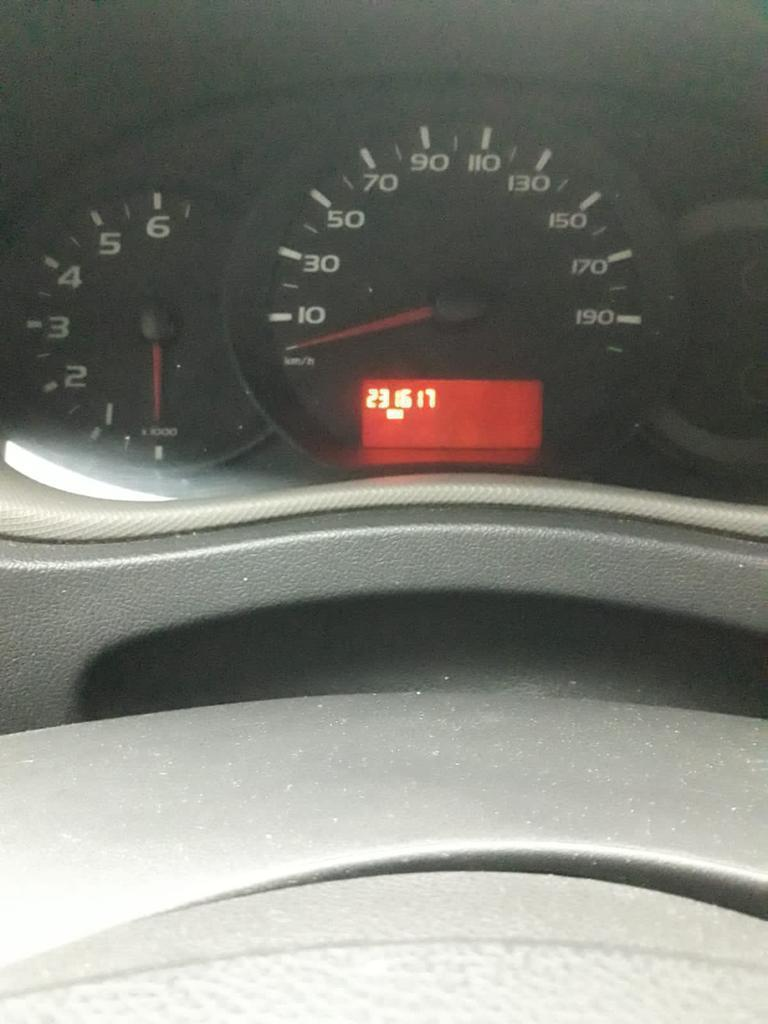1: (414, 385, 424, 411), (394, 387, 399, 408)
2: (366, 387, 377, 410)
3: (379, 386, 389, 409)
6: (399, 387, 412, 408)
7: (425, 386, 437, 410)
odometer: (361, 377, 542, 450)
